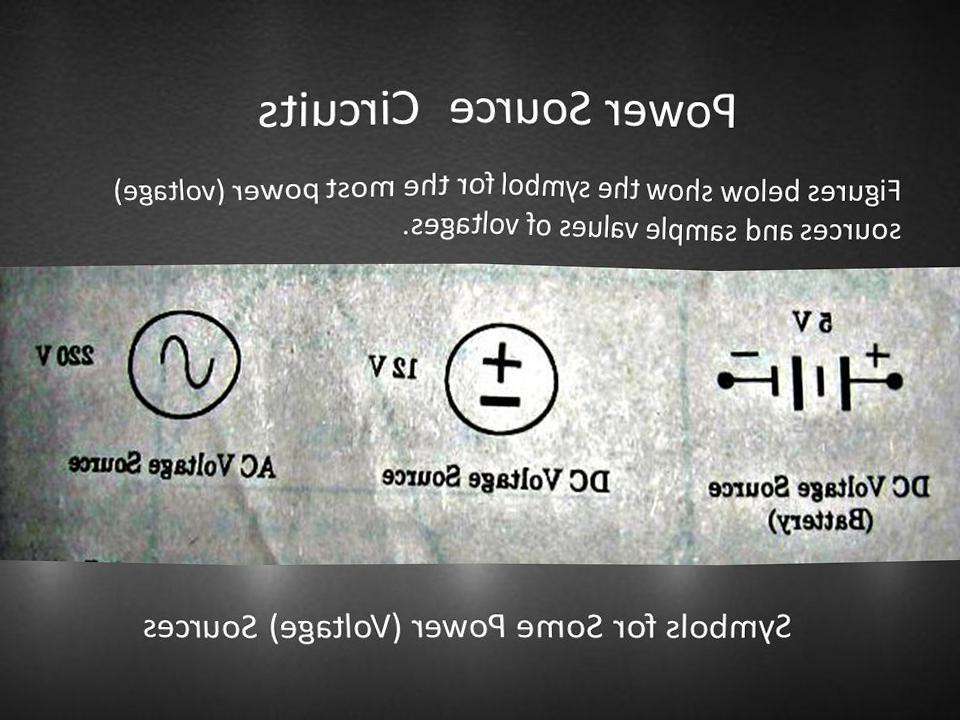Battery: (432, 317, 574, 446)
